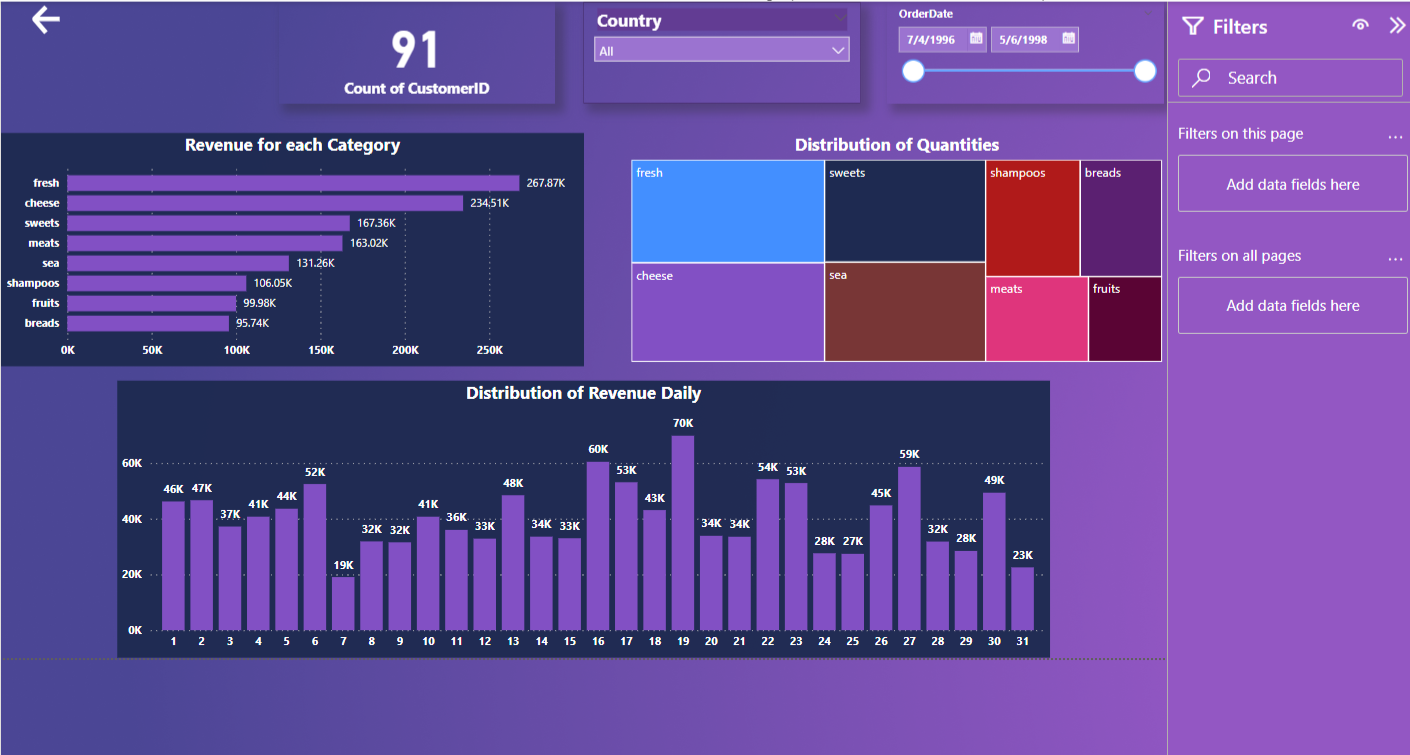

What the dashboard file says about the page in this screenshot:
{"tool":"powerbi","page":{"name":"Page 2","canvas":[1280,720],"ordinal":1},"visuals":[{"type":"actionButton","box":[0,0,100,40],"z":0},{"type":"clusteredColumnChart","title":"Distribution of Revenue Daily","fields":{"Y":["Categories.Revenue After Discount"],"Category":["Orders.OrderDate.Variation.Date Hierarchy.Day"]},"box":[128,416,1024,304],"z":1000},{"type":"slicer","fields":{"Values":["Orders.OrderDate"]},"box":[973.5,0,304,112],"z":2000},{"type":"clusteredBarChart","title":"Revenue for each Category","fields":{"Category":["Categories.CategoryName"],"Y":["Categories.Revenue After Discount"]},"box":[0,144,640,256],"z":3000},{"type":"treemap","title":"Distribution of Quantities","fields":{"Group":["Categories.CategoryName"],"Values":["Sum(OrdersDetails.Quantity)"]},"box":[688,144,592,256],"z":4000},{"type":"slicer","fields":{"Values":["Customers.Country"]},"box":[640,0,304,112],"z":6000},{"type":"card","fields":{"Values":["CountNonNull(Customers.CustomerID)"]},"box":[304,0,304,112],"z":7000}]}

Visuals, with their boxes on the page's 1280x720 design canvas (x1, y1, x2, y2). These are canvas units, not pixel positions in the 1410x755 screenshot, which may show the page scaled, cropped or inside an application window:
actionButton: [x1=0, y1=0, x2=100, y2=40]
"Distribution of Revenue Daily" clusteredColumnChart: [x1=128, y1=416, x2=1152, y2=720]
slicer - Orders.OrderDate: [x1=974, y1=0, x2=1278, y2=112]
"Revenue for each Category" clusteredBarChart: [x1=0, y1=144, x2=640, y2=400]
"Distribution of Quantities" treemap: [x1=688, y1=144, x2=1280, y2=400]
slicer - Customers.Country: [x1=640, y1=0, x2=944, y2=112]
card - CountNonNull(Customers.CustomerID): [x1=304, y1=0, x2=608, y2=112]
